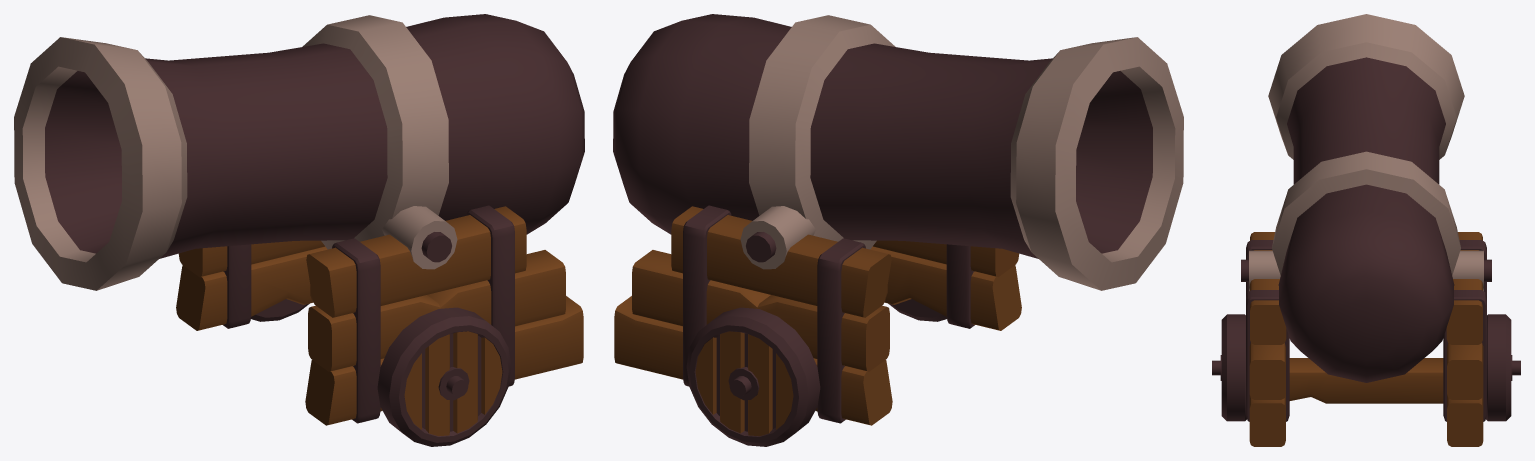
Rendered from quaternius-pirate-prop-cannon.glb.
The picture shows the model from 3 angles, left to right: view 1: azimuth 30°, elevation 25°; view 2: azimuth 150°, elevation 25°; view 3: azimuth 270°, elevation 25°; orthographic projection. The views are drawn at different scales.
Visible parts, largest first — view 1: Prop_Cannon; view 2: Prop_Cannon; view 3: Prop_Cannon.
Part boxes in pixels (bbox=[...]): Prop_Cannon: bbox=[14, 14, 584, 446]; Prop_Cannon: bbox=[613, 14, 1183, 446]; Prop_Cannon: bbox=[1212, 14, 1520, 446].
Bounding box in the file's own units: 1.48 × 1.13 × 1.04.
1 material, 1 textured.
